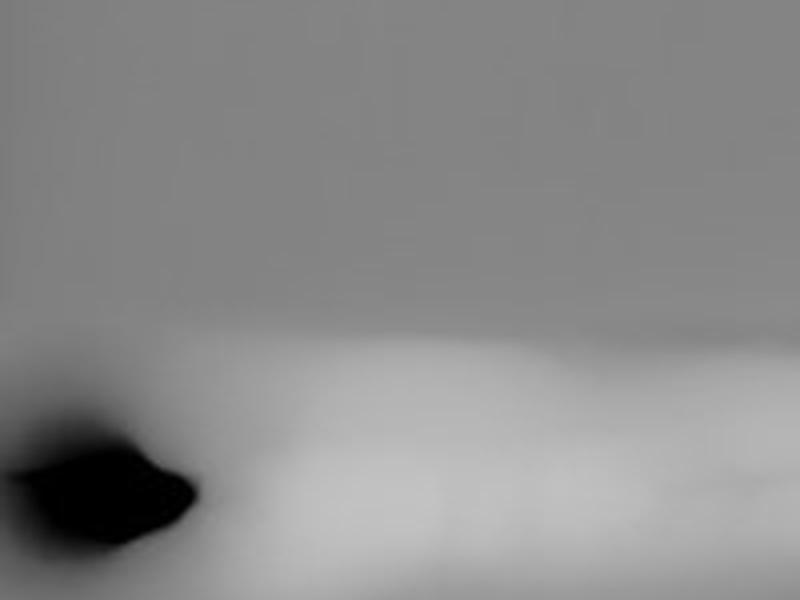defect: (2, 429, 198, 558)
